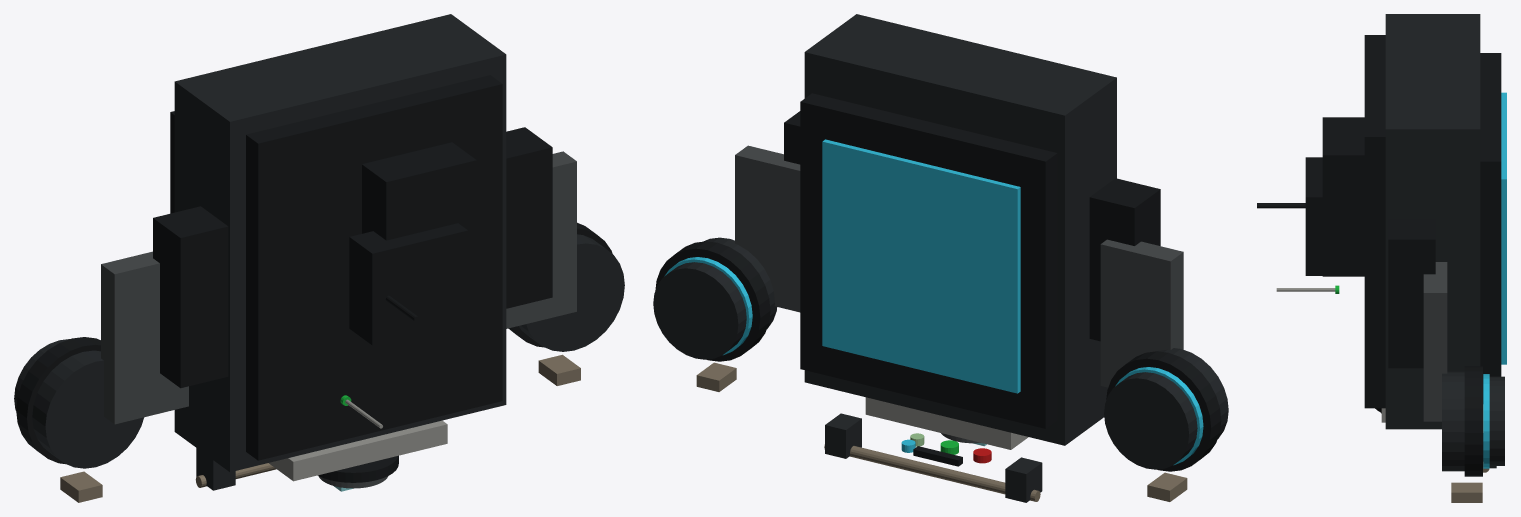
The model's file is hovercraft_wide_50pct_longer.obj.
The picture shows the model from 3 angles, left to right: view 1: azimuth 30°, elevation 25°; view 2: azimuth 150°, elevation 25°; view 3: azimuth 270°, elevation 25°; orthographic projection. The views are drawn at different scales.
Parts seen in each view (by area): view 1: deck, main, turret, shoulder-1, arm-1, rear, shoulder1, podU-1, podU1, arm1, panel, podM-1 (+4 smaller); view 2: main, glow, lower, arm-1, arm1, podL1, podL-1, shoulder-1, podM1, podM-1, panel, bumper (+9 smaller); view 3: main, deck, lower, rear, shoulder1, arm1, podU1, turret, podM1, glow, podL1, accent1 (+2 smaller).
Boxes of the visible parts, <box> form: deck: <box>246,75,502,460</box>; main: <box>174,14,506,472</box>; turret: <box>349,223,467,345</box>; shoulder-1: <box>153,206,228,388</box>; arm-1: <box>101,251,188,424</box>; rear: <box>362,142,476,303</box>; shoulder1: <box>506,127,552,308</box>; podU-1: <box>32,350,143,468</box>; podU1: <box>518,234,624,351</box>; arm1: <box>506,151,576,328</box>; panel: <box>269,420,447,481</box>; podM-1: <box>16,337,100,464</box>; main: <box>804,14,1116,445</box>; glow: <box>822,139,1020,393</box>; lower: <box>800,93,1057,428</box>; arm-1: <box>1100,239,1183,387</box>; arm1: <box>735,145,800,312</box>; podL1: <box>653,262,746,359</box>; podL-1: <box>1104,372,1197,469</box>; shoulder-1: <box>1089,178,1160,341</box>; podM1: <box>655,241,770,361</box>; podM-1: <box>1106,351,1221,471</box>; panel: <box>865,397,1028,449</box>; bumper: <box>824,444,1040,501</box>; main: <box>1385,14,1480,429</box>; deck: <box>1364,35,1385,408</box>; lower: <box>1480,53,1501,403</box>; rear: <box>1322,117,1364,276</box>; shoulder1: <box>1388,219,1435,368</box>; arm1: <box>1423,262,1447,421</box>; podU1: <box>1442,371,1464,471</box>; turret: <box>1305,157,1322,275</box>; podM1: <box>1464,366,1482,476</box>; glow: <box>1501,92,1506,364</box>; podL1: <box>1489,376,1504,465</box>; accent1: <box>1451,482,1482,502</box>.
Bounding box in the file's own units: 11.1 × 7.45 × 4.76.
